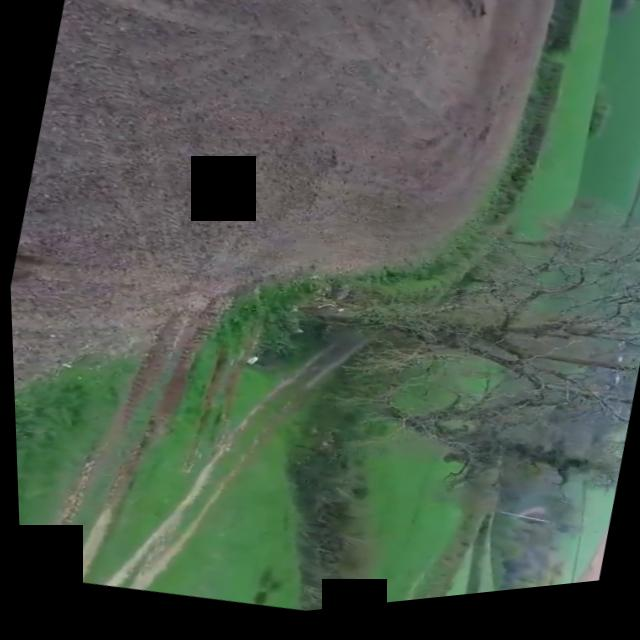Tree: (277, 156, 640, 462), (351, 369, 629, 542)
